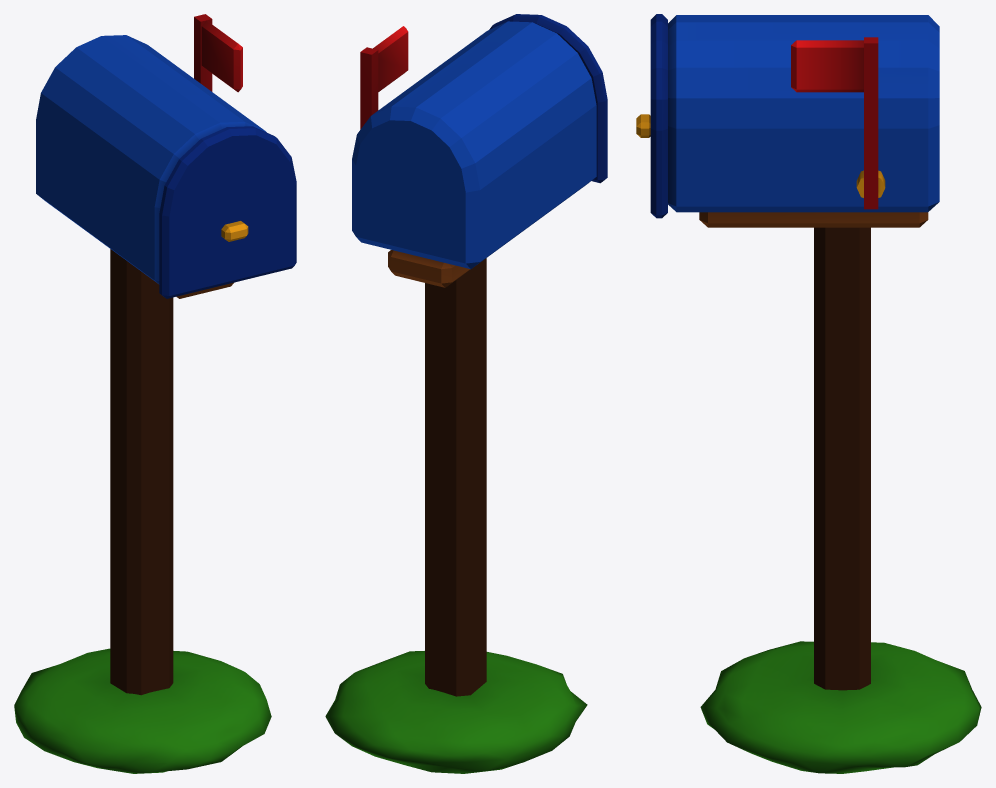
The model's file is Mailbox.fbx.
3 views of the same model, side by side, from view 1: azimuth 30°, elevation 25°; view 2: azimuth 150°, elevation 25°; view 3: azimuth 270°, elevation 25° (orthographic). The views are drawn at different scales.
Parts seen in each view (by area): view 1: Mailbox; view 2: Mailbox; view 3: Mailbox.
Part boxes in pixels (x1=…): Mailbox: x1=14, y1=14, x2=296, y2=773; Mailbox: x1=325, y1=14, x2=607, y2=773; Mailbox: x1=636, y1=14, x2=981, y2=773.
Size of the model in its own units: 0.472 by 1.42 by 0.6031.
